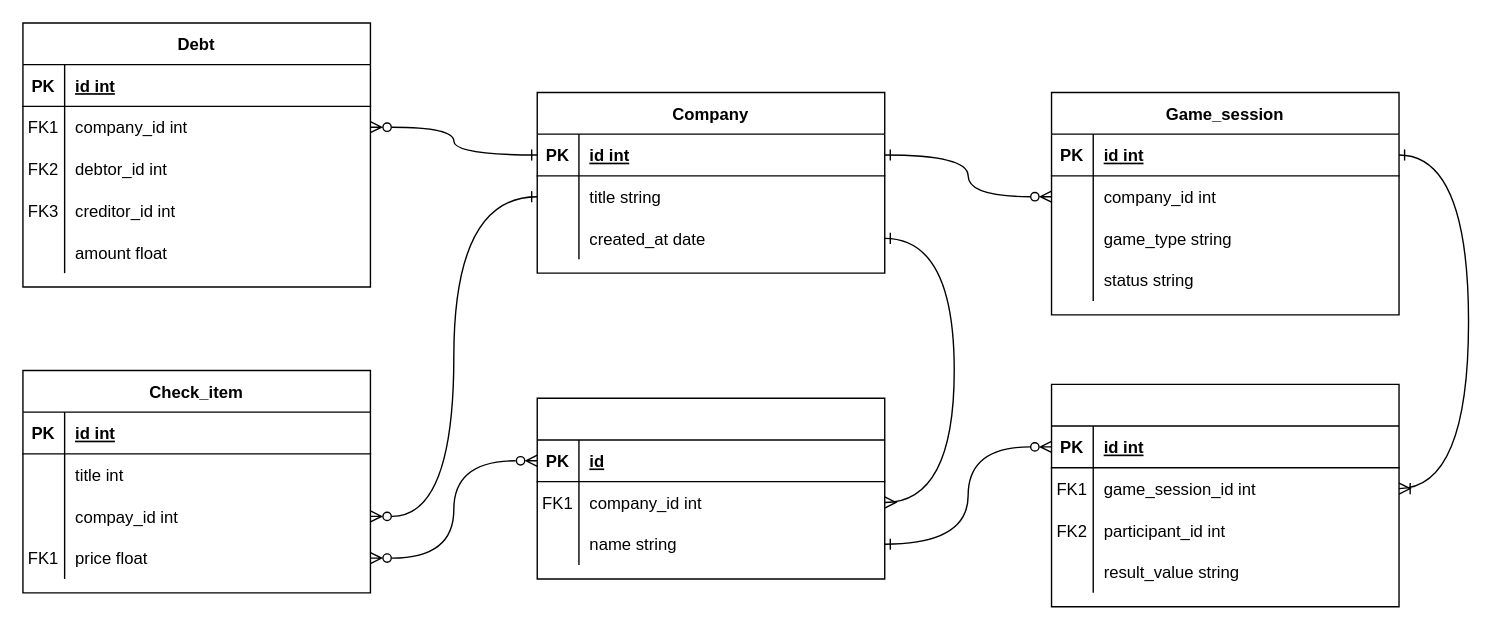
The diagram is 1491 pixels wide and 630 high, and some of its shapes have lost their labels. Each missing label, with the box of its shape:
Game_result: (1050, 383, 1399, 607)
Participant: (536, 397, 885, 579)
